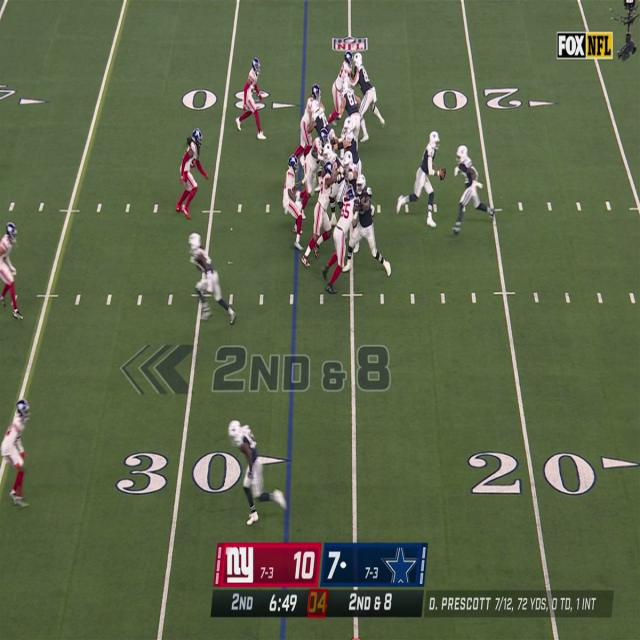football: (439, 166, 446, 181)
players: (228, 418, 288, 528), (186, 232, 238, 326), (397, 131, 441, 229), (322, 186, 361, 294), (350, 175, 390, 279), (452, 145, 496, 235), (301, 163, 337, 271), (0, 398, 33, 509), (172, 127, 210, 219), (353, 52, 383, 144), (234, 60, 267, 143), (297, 128, 330, 208), (324, 49, 354, 129), (0, 224, 24, 322), (292, 84, 322, 160), (285, 155, 304, 253), (322, 142, 346, 212), (341, 122, 367, 184), (339, 78, 363, 144)
